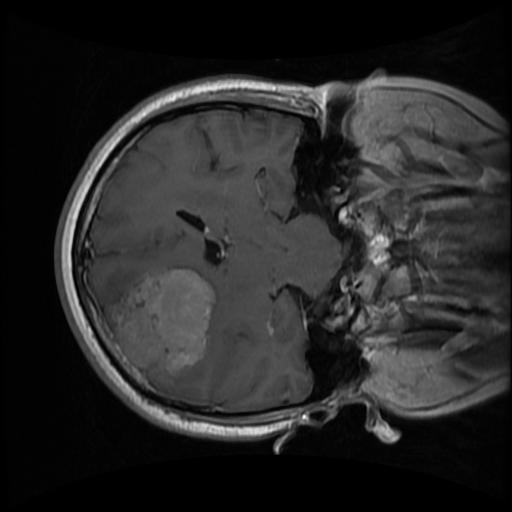meningioma: (102, 268, 215, 377)
